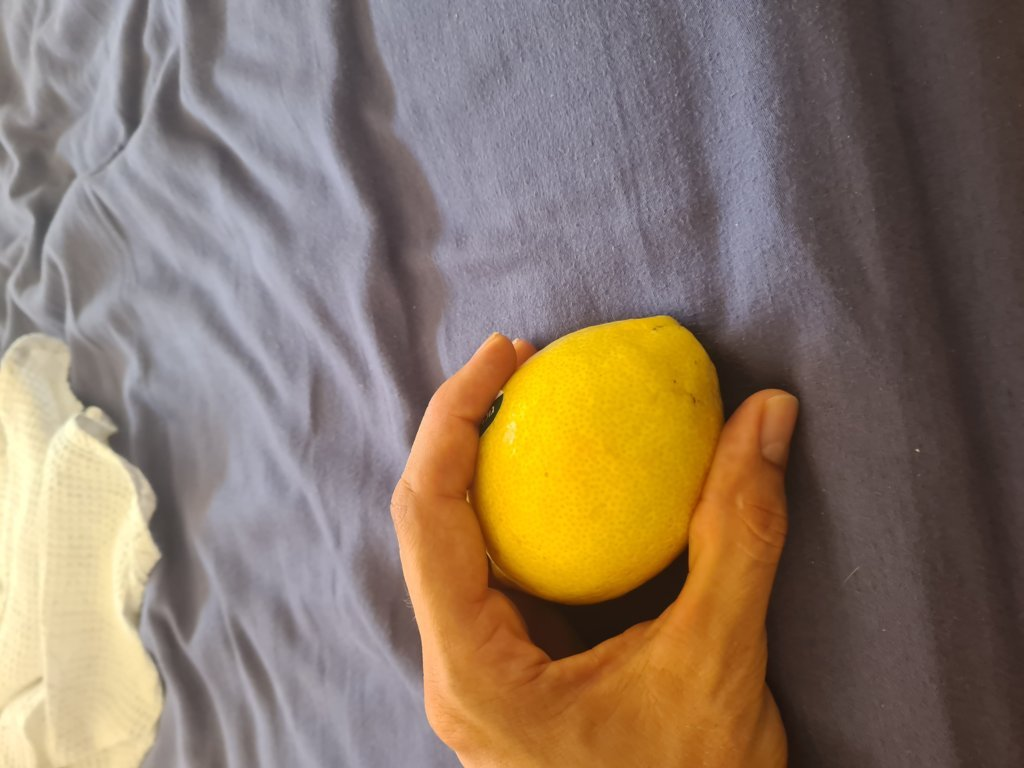lemon: (453, 312, 716, 600)
